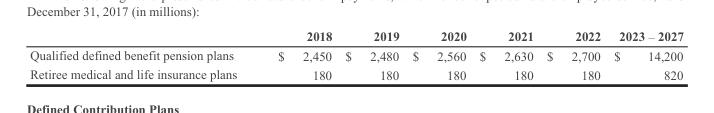table: (29, 28, 682, 81)
table column: (29, 28, 256, 81), (256, 28, 337, 81), (606, 28, 682, 81), (337, 28, 405, 81), (405, 28, 472, 81), (472, 28, 539, 81), (539, 28, 606, 81)
table column header: (29, 28, 682, 45)
table row: (29, 45, 682, 64), (29, 28, 682, 45), (29, 64, 682, 81)
